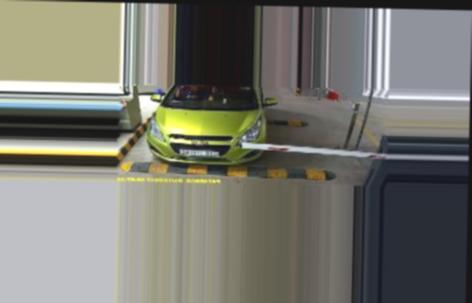License_Plate: (180, 147, 221, 159)
